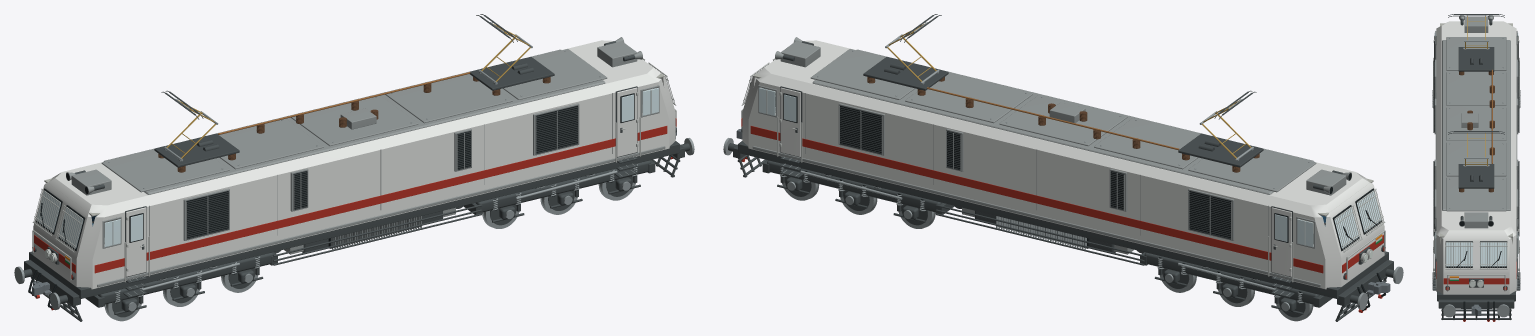
File: WAP7_pantograph_v04_raised_sample.fbx
The picture shows the model from 3 angles, left to right: view 1: azimuth 30°, elevation 25°; view 2: azimuth 150°, elevation 25°; view 3: azimuth 270°, elevation 25°; orthographic projection. The views are drawn at different scales.
Visible parts, largest first — view 1: Chamfered welded body shell, Main load bearing underframe, Continuous red bodyside band, Central roof equipment deck, Removable roof panel.003, Removable roof panel.001, Removable roof panel.002, Removable roof panel, Removable roof panel.004, Bodyside lower sill, Recessed intake screen.001, Recessed intake screen (+17 smaller); view 2: Chamfered welded body shell, Main load bearing underframe, Continuous red bodyside band.001, Central roof equipment deck, Removable roof panel.003, Removable roof panel.001, Removable roof panel.002, Removable roof panel, Removable roof panel.004, Bodyside lower sill.001, Recessed intake screen.005, Recessed intake screen.004 (+17 smaller); view 3: Chamfered welded body shell, Central roof equipment deck, Removable roof panel.001, Removable roof panel.002, Removable roof panel.004, Removable roof panel.003, Removable roof panel, Pantograph base.001, Pantograph base, Front windscreen glass.002, Front windscreen glass.003, Buffer beam.001 (+21 smaller).
Part boxes in pixels (left/top/right/bottom): Chamfered welded body shell: left=33, top=40, right=675, bottom=289; Main load bearing underframe: left=29, top=141, right=679, bottom=298; Continuous red bodyside band: left=94, top=126, right=667, bottom=273; Central roof equipment deck: left=103, top=49, right=605, bottom=194; Removable roof panel.003: left=385, top=74, right=512, bottom=123; Removable roof panel.001: left=219, top=118, right=323, bottom=169; Removable roof panel.002: left=291, top=95, right=418, bottom=145; Removable roof panel: left=101, top=150, right=229, bottom=192; Removable roof panel.004: left=503, top=49, right=607, bottom=99; Bodyside lower sill: left=97, top=146, right=665, bottom=287; Recessed intake screen.001: left=535, top=105, right=577, bottom=154; Recessed intake screen: left=186, top=191, right=228, bottom=239; Chamfered welded body shell: left=742, top=40, right=1384, bottom=289; Main load bearing underframe: left=738, top=141, right=1388, bottom=298; Continuous red bodyside band.001: left=750, top=126, right=1323, bottom=273; Central roof equipment deck: left=812, top=49, right=1314, bottom=194; Removable roof panel.003: left=905, top=73, right=1032, bottom=123; Removable roof panel.001: left=1094, top=118, right=1199, bottom=169; Removable roof panel.002: left=999, top=95, right=1127, bottom=145; Removable roof panel: left=1188, top=150, right=1316, bottom=192; Removable roof panel.004: left=810, top=49, right=914, bottom=99; Bodyside lower sill.001: left=752, top=146, right=1320, bottom=287; Recessed intake screen.005: left=840, top=105, right=882, bottom=154; Recessed intake screen.004: left=1189, top=191, right=1231, bottom=239; Chamfered welded body shell: left=1436, top=21, right=1516, bottom=294; Central roof equipment deck: left=1442, top=40, right=1510, bottom=210; Removable roof panel.001: left=1446, top=72, right=1506, bottom=105; Removable roof panel.002: left=1446, top=107, right=1506, bottom=140; Removable roof panel.004: left=1446, top=177, right=1506, bottom=211; Removable roof panel.003: left=1446, top=142, right=1506, bottom=176; Removable roof panel: left=1446, top=37, right=1506, bottom=70; Pantograph base.001: left=1458, top=164, right=1494, bottom=188; Pantograph base: left=1458, top=47, right=1494, bottom=71; Front windscreen glass.002: left=1446, top=242, right=1472, bottom=266; Front windscreen glass.003: left=1480, top=242, right=1506, bottom=266; Buffer beam.001: left=1438, top=299, right=1514, bottom=308.
Bounding box in the file's own units: 318 × 2056 × 568.
